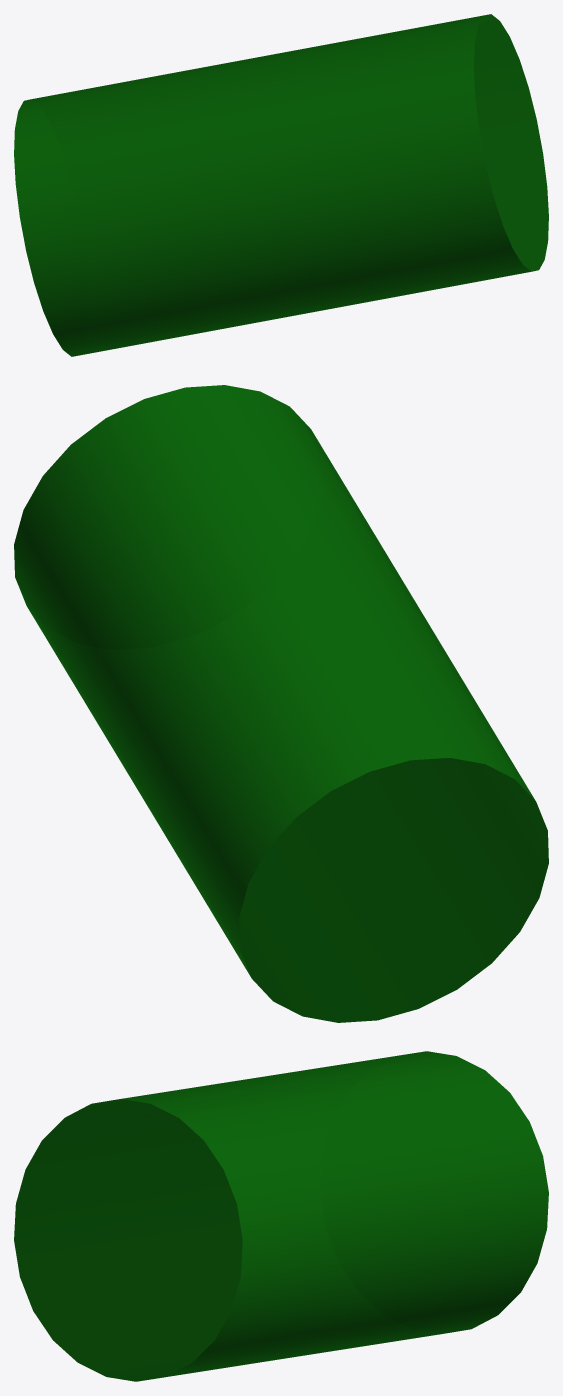
Rendered from Event_421115418_jet_10.fbx.
The picture shows the model from 3 angles, top to bottom: view 1: azimuth 30°, elevation 25°; view 2: azimuth 150°, elevation 25°; view 3: azimuth 270°, elevation 25°; orthographic projection. The views are drawn at different scales.
Parts seen in each view (by area): view 1: Model; view 2: Model; view 3: Model.
Boxes of the visible parts, x1,y1,x2,y2 form: Model: (14,14,548,356); Model: (14,385,548,1022); Model: (14,1051,548,1381).
Size of the model in its own units: 0.0816 by 0.0573 by 0.0753.
